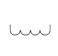inductor: (6, 21, 51, 37)
